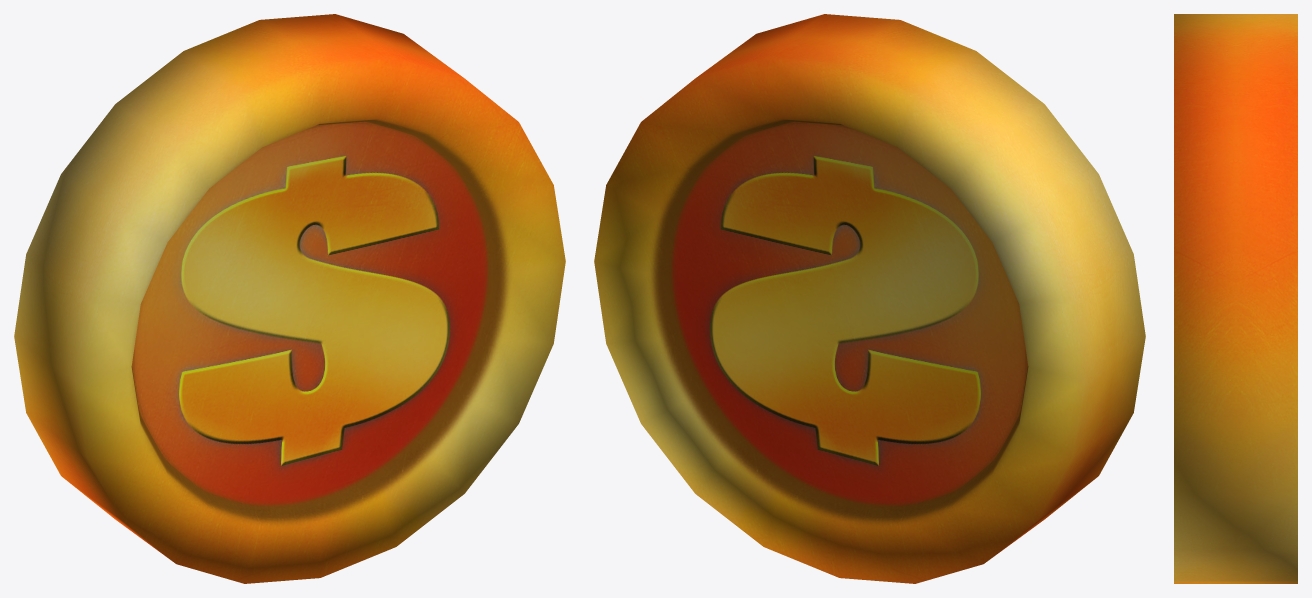
Rendered from JinBi.fbx.
The picture shows the model from 3 angles, left to right: view 1: azimuth 30°, elevation 25°; view 2: azimuth 150°, elevation 25°; view 3: azimuth 270°, elevation 25°; orthographic projection.
Parts seen in each view (by area): view 1: Jinbi; view 2: Jinbi; view 3: Jinbi.
Part boxes in pixels (x1,y1,x2,y2): Jinbi: (14,14,565,583); Jinbi: (594,14,1145,583); Jinbi: (1174,14,1297,583).
Bounding box in the file's own units: 3.18 × 3.18 × 0.686.
